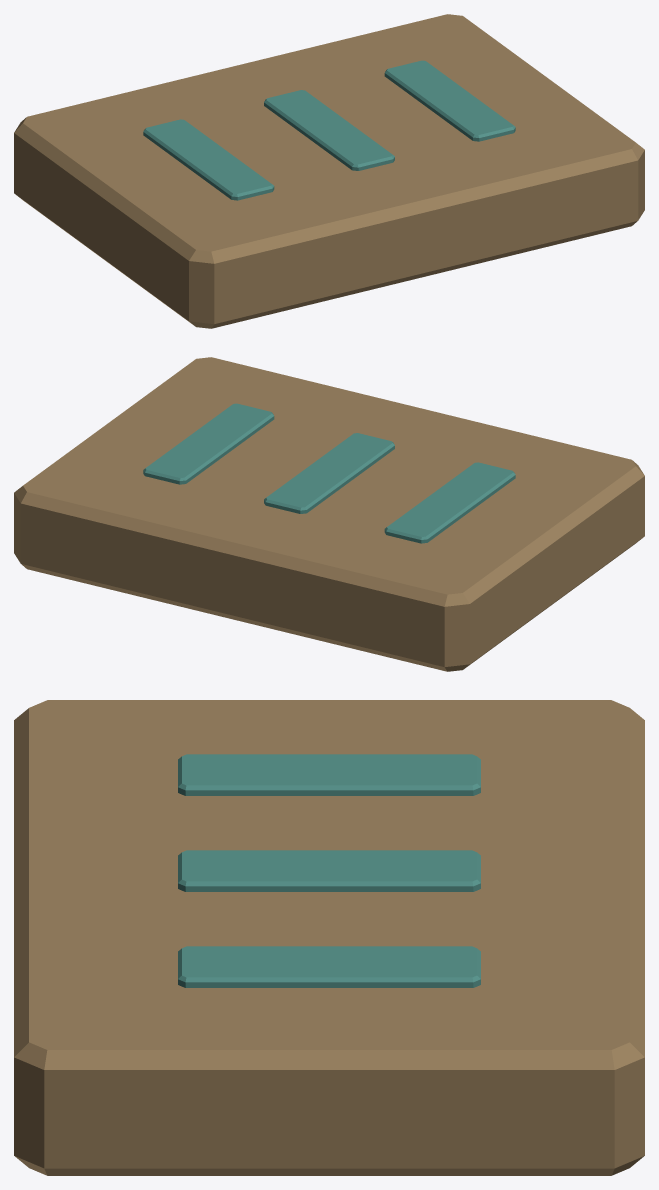
The model's file is glyph-tablet.glb.
The picture shows the model from 3 angles, top to bottom: view 1: azimuth 30°, elevation 25°; view 2: azimuth 150°, elevation 25°; view 3: azimuth 270°, elevation 25°; orthographic projection. The views are drawn at different scales.
Parts seen in each view (by area): view 1: glyph-tablet__body; view 2: glyph-tablet__body; view 3: glyph-tablet__body.
Part boxes in pixels (<box>): glyph-tablet__body: <box>14,14,644,328</box>; glyph-tablet__body: <box>14,357,644,671</box>; glyph-tablet__body: <box>14,700,644,1175</box>.
Size of the model in its own units: 0.34 by 0.059 by 0.25.
